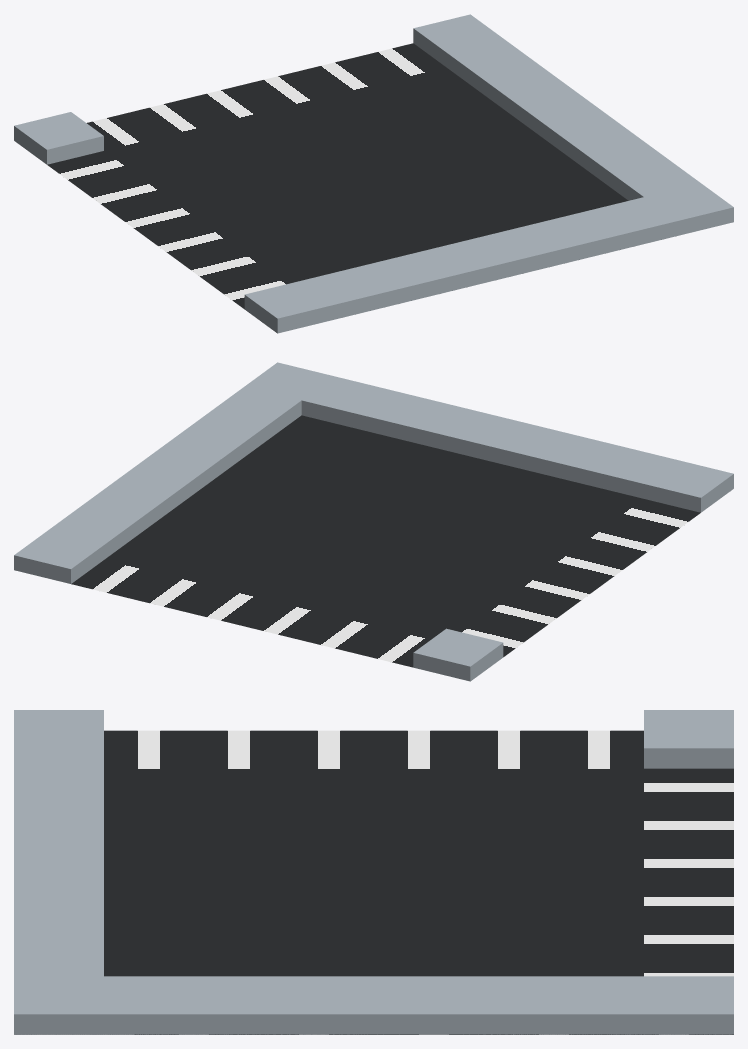
The model's file is Road-upleft.8e8e8992.gltf.
3 renders of one model, top to bottom at view 1: azimuth 30°, elevation 25°; view 2: azimuth 150°, elevation 25°; view 3: azimuth 270°, elevation 25°, orthographic. The views are drawn at different scales.
Parts seen in each view (by area): view 1: Road, Sidewalk bottom left, Sidewalk Top right, Sidewalk Top left, Sidewalk bottom right; view 2: Road, Sidewalk bottom left, Sidewalk Top right, Sidewalk Top left, Sidewalk bottom right; view 3: Road, Sidewalk Top right, Sidewalk bottom left, Sidewalk Top left, Sidewalk bottom right.
Boxes of the visible parts, bbox=[...] form: Road: bbox=[47, 43, 628, 309]; Sidewalk bottom left: bbox=[244, 197, 676, 333]; Sidewalk Top right: bbox=[413, 14, 700, 200]; Sidewalk Top left: bbox=[14, 112, 103, 164]; Sidewalk bottom right: bbox=[644, 183, 733, 235]; Road: bbox=[71, 415, 700, 667]; Sidewalk bottom left: bbox=[301, 376, 733, 512]; Sidewalk Top right: bbox=[14, 386, 301, 583]; Sidewalk Top left: bbox=[413, 628, 503, 681]; Sidewalk bottom right: bbox=[245, 362, 333, 400]; Road: bbox=[14, 730, 733, 1034]; Sidewalk Top right: bbox=[104, 976, 733, 1034]; Sidewalk bottom left: bbox=[14, 710, 103, 976]; Sidewalk Top left: bbox=[644, 710, 733, 768]; Sidewalk bottom right: bbox=[14, 976, 103, 1034].
Size of the model in its own units: 2 by 0.0625 by 2.
Materials: 1 (1 with a texture image).
